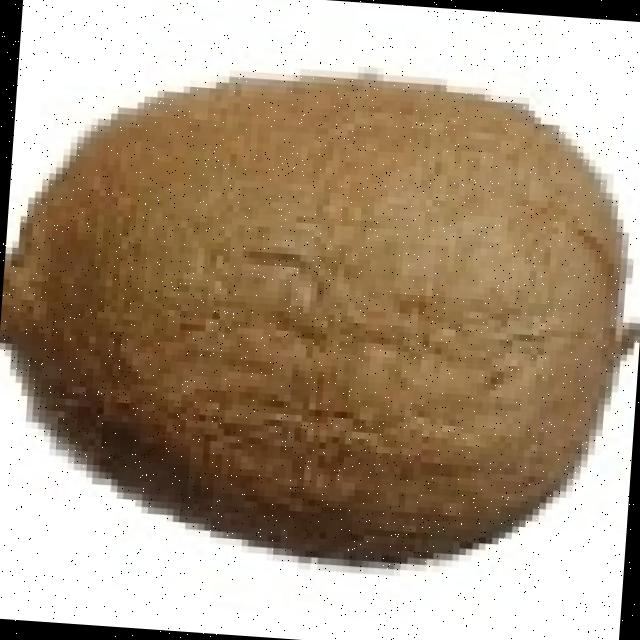kiwi: (11, 71, 633, 547)
